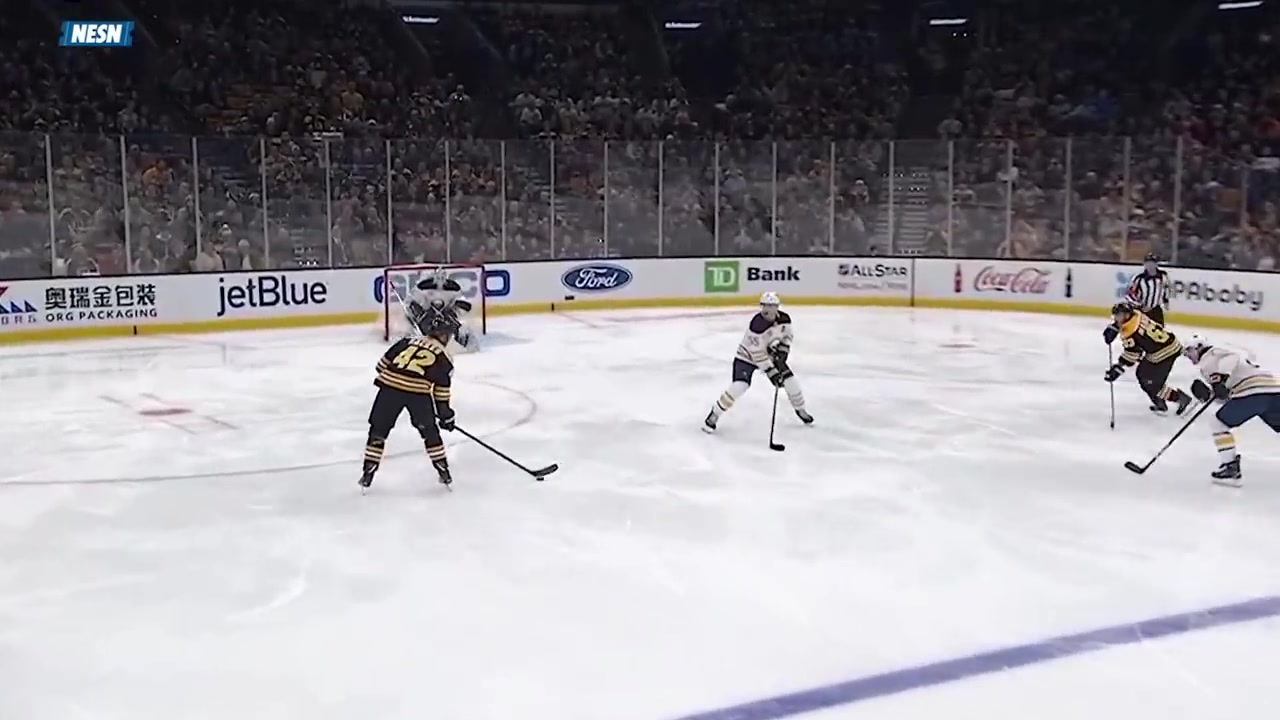Geico: (374, 248, 515, 309)
